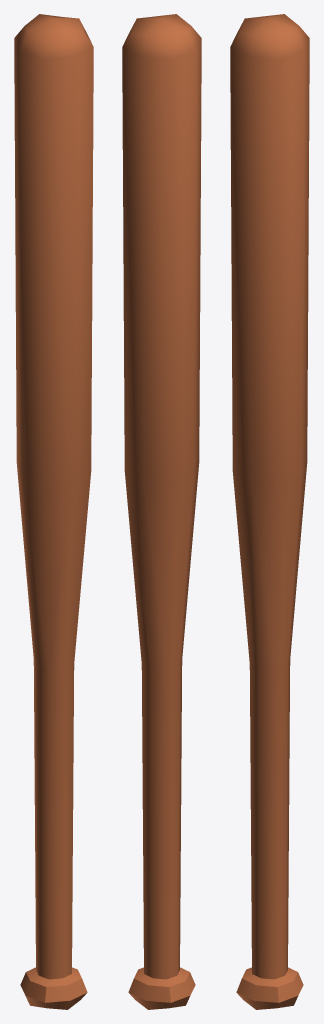
The model's file is BaseballBat001.FBX.
3 renders of one model, left to right at view 1: azimuth 30°, elevation 25°; view 2: azimuth 150°, elevation 25°; view 3: azimuth 330°, elevation 25°, orthographic.
Visible parts, largest first — view 1: Box001; view 2: Box001; view 3: Box001.
Part boxes in pixels (x1=…): Box001: x1=14, y1=14, x2=93, y2=1009; Box001: x1=122, y1=14, x2=201, y2=1009; Box001: x1=230, y1=14, x2=309, y2=1009.
Size of the model in its own units: 1 by 14 by 1.
